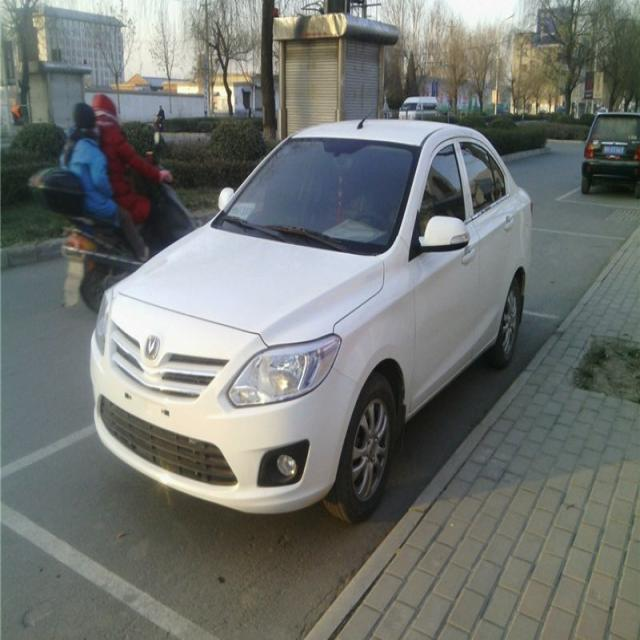door: (454, 140, 510, 351)
front_bumper: (89, 328, 365, 517)
front_glass: (216, 135, 422, 254)
front_left_side_door: (407, 134, 484, 418)
front_left_side_light: (226, 332, 342, 408)
front_left_side_mirror: (416, 214, 470, 254)
front_right_side_light: (94, 289, 110, 358)
front_right_side_mirror: (218, 187, 236, 214)
wheel: (322, 374, 398, 522), (487, 278, 522, 369)
